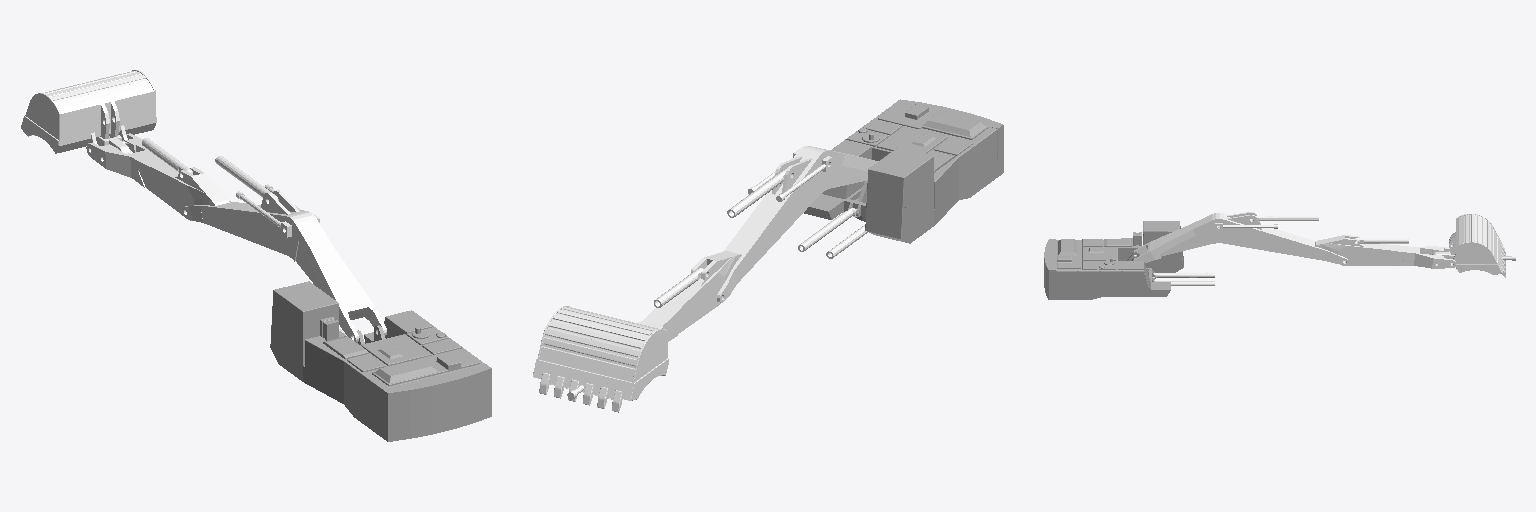
URDF robot description (excavatorplus):
<?xml version="1.0" encoding="utf-8"?>
<!-- This URDF was automatically created by SolidWorks to URDF Exporter! Originally created by [author] ([email redacted]) 
     Commit Version: 1.5.1-0-g916b5db  Build Version: 1.5.7152.31018
     For more information, please see http://wiki.ros.org/sw_urdf_exporter -->
<robot
  name="excavatorplus">
  <link
    name="base_link">
    <inertial>
      <origin
        xyz="-0.037276 -0.11211 -1.3696"
        rpy="0 0 0" />
      <mass
        value="1584.9" />
      <inertia
        ixx="2256.8"
        ixy="-0.00030194"
        ixz="0.00039682"
        iyy="1846.1"
        iyz="-4.069"
        izz="3789.3" />
    </inertial>
    <visual>
      <origin
        xyz="0 0 0"
        rpy="0 0 0" />
      <geometry>
        <mesh
          filename="package://meshes/base_link.STL" />
      </geometry>
      <material
        name="">
        <color
          rgba="0.75294 0.75294 0.75294 1" />
      </material>
    </visual>
    <collision>
      <origin
        xyz="0 0 0"
        rpy="0 0 0" />
      <geometry>
        <mesh
          filename="package://meshes/base_link.STL" />
      </geometry>
    </collision>
  </link>
  <link
    name="1huizhuantai">
    <inertial>
      <origin
        xyz="-0.033183 -0.98161 -0.29422"
        rpy="0 0 0" />
      <mass
        value="4155.4" />
      <inertia
        ixx="3529.1"
        ixy="203.56"
        ixz="1.8362"
        iyy="1890.9"
        iyz="99.215"
        izz="4823.8" />
    </inertial>
    <visual>
      <origin
        xyz="0 0 0"
        rpy="0 0 0" />
      <geometry>
        <mesh
          filename="package://meshes/1huizhuantai.STL" />
      </geometry>
      <material
        name="">
        <color
          rgba="0.75294 0.75294 0.75294 1" />
      </material>
    </visual>
    <collision>
      <origin
        xyz="0 0 0"
        rpy="0 0 0" />
      <geometry>
        <mesh
          filename="package://meshes/1huizhuantai.STL" />
      </geometry>
    </collision>
  </link>
  <joint
    name="joint1"
    type="continuous">
    <origin
      xyz="-0.037276 -0.092793 0"
      rpy="0 0 0" />
    <parent
      link="base_link" />
    <child
      link="1huizhuantai" />
    <axis
      xyz="0 0 -1" />
    <limit
      lower="-3.14"
      upper="3.14"
      effort="100"
      velocity="1" />
  </joint>
  <link
    name="2dongbi">
    <inertial>
      <origin
        xyz="-5.4753E-15 2.7656 0.58457"
        rpy="0 0 0" />
      <mass
        value="1139.2" />
      <inertia
        ixx="2254.3"
        ixy="-1.5608E-12"
        ixz="1.039E-12"
        iyy="117.73"
        iyz="110.05"
        izz="2173.1" />
    </inertial>
    <visual>
      <origin
        xyz="0 0 0"
        rpy="0 0 0" />
      <geometry>
        <mesh
          filename="package://meshes/2dongbi.STL" />
      </geometry>
      <material
        name="">
        <color
          rgba="1 1 1 1" />
      </material>
    </visual>
    <collision>
      <origin
        xyz="0 0 0"
        rpy="0 0 0" />
      <geometry>
        <mesh
          filename="package://meshes/2dongbi.STL" />
      </geometry>
    </collision>
  </link>
  <joint
    name="joint2"
    type="revolute">
    <origin
      xyz="0 0.1 0"
      rpy="0 0 0" />
    <parent
      link="1huizhuantai" />
    <child
      link="2dongbi" />
    <axis
      xyz="1 0 0" />
    <limit
      lower="-3.14"
      upper="3.14"
      effort="100"
      velocity="1" />
  </joint>
  <link
    name="3dougan">
    <inertial>
      <origin
        xyz="-6.546E-13 0.8525 0.13673"
        rpy="0 0 0" />
      <mass
        value="588.48" />
      <inertia
        ixx="532.28"
        ixy="1.0515E-11"
        ixz="-1.0057E-12"
        iyy="30.031"
        iyz="47.289"
        izz="525.77" />
    </inertial>
    <visual>
      <origin
        xyz="0 0 0"
        rpy="0 0 0" />
      <geometry>
        <mesh
          filename="package://meshes/3dougan.STL" />
      </geometry>
      <material
        name="">
        <color
          rgba="1 1 1 1" />
      </material>
    </visual>
    <collision>
      <origin
        xyz="0 0 0"
        rpy="0 0 0" />
      <geometry>
        <mesh
          filename="package://meshes/3dougan.STL" />
      </geometry>
    </collision>
  </link>
  <joint
    name="joint3"
    type="revolute">
    <origin
      xyz="0 5.7 0"
      rpy="0 0 0" />
    <parent
      link="2dongbi" />
    <child
      link="3dougan" />
    <axis
      xyz="1 0 0" />
    <limit
      lower="-3.14"
      upper="3.14"
      effort="100"
      velocity="1" />
  </joint>
  <link
    name="4chandou">
    <inertial>
      <origin
        xyz="0.63243 0.41031 6.167E-07"
        rpy="0 0 0" />
      <mass
        value="285.1" />
      <inertia
        ixx="135.44"
        ixy="12.871"
        ixz="0.0021992"
        iyy="173.33"
        iyz="-0.0023358"
        izz="90.525" />
    </inertial>
    <visual>
      <origin
        xyz="0 0 0"
        rpy="0 0 0" />
      <geometry>
        <mesh
          filename="package://meshes/4chandou.STL" />
      </geometry>
      <material
        name="">
        <color
          rgba="1 1 1 1" />
      </material>
    </visual>
    <collision>
      <origin
        xyz="0 0 0"
        rpy="0 0 0" />
      <geometry>
        <mesh
          filename="package://meshes/4chandou.STL" />
      </geometry>
    </collision>
  </link>
  <joint
    name="joint4"
    type="revolute">
    <origin
      xyz="0 2.925 0"
      rpy="1.5708 0 1.5708" />
    <parent
      link="3dougan" />
    <child
      link="4chandou" />
    <axis
      xyz="0 0 1" />
    <limit
      lower="-3.14"
      upper="3.14"
      effort="100"
      velocity="1" />
  </joint>
  <link
    name="10dghuosai">
    <inertial>
      <origin
        xyz="1.4433E-14 -0.80097 6.4985E-13"
        rpy="0 0 0" />
      <mass
        value="19.392" />
      <inertia
        ixx="8.1302"
        ixy="1.454E-13"
        ixz="-3.4084E-16"
        iyy="0.045791"
        iyz="5.0663E-14"
        izz="8.1409" />
    </inertial>
    <visual>
      <origin
        xyz="0 0 0"
        rpy="0 0 0" />
      <geometry>
        <mesh
          filename="package://meshes/10dghuosai.STL" />
      </geometry>
      <material
        name="">
        <color
          rgba="1 1 1 1" />
      </material>
    </visual>
    <collision>
      <origin
        xyz="0 0 0"
        rpy="0 0 0" />
      <geometry>
        <mesh
          filename="package://meshes/10dghuosai.STL" />
      </geometry>
    </collision>
  </link>
  <joint
    name="joint10"
    type="revolute">
    <origin
      xyz="0 -0.81541 0.24"
      rpy="1.5708 1.5708 -1.5708" />
    <parent
      link="3dougan" />
    <child
      link="10dghuosai" />
    <axis
      xyz="0 0 -1" />
    <limit
      lower="-3.14"
      upper="3.14"
      effort="100"
      velocity="1" />
  </joint>
  <link
    name="11cdgan">
    <inertial>
      <origin
        xyz="-7.142E-08 0.54528 -1.1299E-08"
        rpy="0 0 0" />
      <mass
        value="9.5739" />
      <inertia
        ixx="2.0123"
        ixy="-2.9462E-07"
        ixz="-5.1743E-08"
        iyy="0.044044"
        iyz="3.6405E-08"
        izz="2.0155" />
    </inertial>
    <visual>
      <origin
        xyz="0 0 0"
        rpy="0 0 0" />
      <geometry>
        <mesh
          filename="package://meshes/11cdgan.STL" />
      </geometry>
      <material
        name="">
        <color
          rgba="1 1 1 1" />
      </material>
    </visual>
    <collision>
      <origin
        xyz="0 0 0"
        rpy="0 0 0" />
      <geometry>
        <mesh
          filename="package://meshes/11cdgan.STL" />
      </geometry>
    </collision>
  </link>
  <joint
    name="joint11"
    type="revolute">
    <origin
      xyz="0 0.32228 0.52931"
      rpy="1.5708 -1.5708 -1.5708" />
    <parent
      link="3dougan" />
    <child
      link="11cdgan" />
    <axis
      xyz="0 0 1" />
    <limit
      lower="-3.14"
      upper="3.14"
      effort="100"
      velocity="1" />
  </joint>
  <link
    name="12liangan2">
    <inertial>
      <origin
        xyz="-0.3092 1.1351E-09 -1.7838E-07"
        rpy="0 0 0" />
      <mass
        value="40.465" />
      <inertia
        ixx="0.67185"
        ixy="5.4231E-09"
        ixz="-1.2804E-07"
        iyy="2.673"
        iyz="-3.9415E-07"
        izz="2.5982" />
    </inertial>
    <visual>
      <origin
        xyz="0 0 0"
        rpy="0 0 0" />
      <geometry>
        <mesh
          filename="package://meshes/12liangan2.STL" />
      </geometry>
      <material
        name="">
        <color
          rgba="1 1 1 1" />
      </material>
    </visual>
    <collision>
      <origin
        xyz="0 0 0"
        rpy="0 0 0" />
      <geometry>
        <mesh
          filename="package://meshes/12liangan2.STL" />
      </geometry>
    </collision>
  </link>
  <joint
    name="joint12"
    type="revolute">
    <origin
      xyz="0 2.515 0"
      rpy="-1.5708 0 -1.5708" />
    <parent
      link="3dougan" />
    <child
      link="12liangan2" />
    <axis
      xyz="0 0 1" />
    <limit
      lower="-3.14"
      upper="3.14"
      effort="100"
      velocity="1" />
  </joint>
  <link
    name="13cdhuosai">
    <inertial>
      <origin
        xyz="2.6734E-13 -0.63367 7.5837E-13"
        rpy="0 0 0" />
      <mass
        value="15.607" />
      <inertia
        ixx="4.1805"
        ixy="3.1987E-14"
        ixz="1.8646E-17"
        iyy="0.036574"
        iyz="8.2347E-14"
        izz="4.1913" />
    </inertial>
    <visual>
      <origin
        xyz="0 0 0"
        rpy="0 0 0" />
      <geometry>
        <mesh
          filename="package://meshes/13cdhuosai.STL" />
      </geometry>
      <material
        name="">
        <color
          rgba="1 1 1 1" />
      </material>
    </visual>
    <collision>
      <origin
        xyz="0 0 0"
        rpy="0 0 0" />
      <geometry>
        <mesh
          filename="package://meshes/13cdhuosai.STL" />
      </geometry>
    </collision>
  </link>
  <joint
    name="joint13"
    type="revolute">
    <origin
      xyz="-0.64 0 0"
      rpy="0 0 -1.5708" />
    <parent
      link="12liangan2" />
    <child
      link="13cdhuosai" />
    <axis
      xyz="0 0 1" />
    <limit
      lower="-3.14"
      upper="3.14"
      effort="100"
      velocity="1" />
  </joint>
  <link
    name="14liangan1">
    <inertial>
      <origin
        xyz="-0.33435 -2.337E-08 1.7266E-08"
        rpy="0 0 0" />
      <mass
        value="19.143" />
      <inertia
        ixx="0.15562"
        ixy="-1.0211E-07"
        ixz="-1.6171E-07"
        iyy="0.91282"
        iyz="8.579E-09"
        izz="0.88411" />
    </inertial>
    <visual>
      <origin
        xyz="0 0 0"
        rpy="0 0 0" />
      <geometry>
        <mesh
          filename="package://meshes/14liangan1.STL" />
      </geometry>
      <material
        name="">
        <color
          rgba="1 1 1 1" />
      </material>
    </visual>
    <collision>
      <origin
        xyz="0 0 0"
        rpy="0 0 0" />
      <geometry>
        <mesh
          filename="package://meshes/14liangan1.STL" />
      </geometry>
    </collision>
  </link>
  <joint
    name="joint14"
    type="revolute">
    <origin
      xyz="-0.64 0 0"
      rpy="-1.5708 0 3.1416" />
    <parent
      link="12liangan2" />
    <child
      link="14liangan1" />
    <axis
      xyz="0 -1 0" />
    <limit
      lower="3.14"
      upper="3.14"
      effort="100"
      velocity="1" />
  </joint>
  <link
    name="7dbrhuosai">
    <inertial>
      <origin
        xyz="3.5527E-15 -0.66744 0.275"
        rpy="0 0 0" />
      <mass
        value="11.061" />
      <inertia
        ixx="3.4611"
        ixy="2.0499E-14"
        ixz="1.4204E-16"
        iyy="0.021177"
        iyz="-1.6584E-14"
        izz="3.4707" />
    </inertial>
    <visual>
      <origin
        xyz="0 0 0"
        rpy="0 0 0" />
      <geometry>
        <mesh
          filename="package://meshes/7dbrhuosai.STL" />
      </geometry>
      <material
        name="">
        <color
          rgba="1 1 1 1" />
      </material>
    </visual>
    <collision>
      <origin
        xyz="0 0 0"
        rpy="0 0 0" />
      <geometry>
        <mesh
          filename="package://meshes/7dbrhuosai.STL" />
      </geometry>
    </collision>
  </link>
  <joint
    name="joint7"
    type="revolute">
    <origin
      xyz="0 2.2642 1.0787"
      rpy="1.5708 -1.5708 1.5708" />
    <parent
      link="2dongbi" />
    <child
      link="7dbrhuosai" />
    <axis
      xyz="0 0 1" />
    <limit
      lower="-3.14"
      upper="3.14"
      effort="100"
      velocity="1" />
  </joint>
  <link
    name="8dblhuosai">
    <inertial>
      <origin
        xyz="3.33066907387547E-15 -0.667440027957437 -0.0433263736101925"
        rpy="0 0 0" />
      <mass
        value="11.0612825522758" />
      <inertia
        ixx="3.46110303337613"
        ixy="1.49958170880815E-14"
        ixz="-1.18968090472971E-16"
        iyy="0.0211765702235837"
        iyz="-7.18658460716524E-15"
        izz="3.47070837629348" />
    </inertial>
    <visual>
      <origin
        xyz="0 0 0"
        rpy="0 0 0" />
      <geometry>
        <mesh
          filename="package://meshes/8dblhuosai.STL" />
      </geometry>
      <material
        name="">
        <color
          rgba="1 1 1 1" />
      </material>
    </visual>
    <collision>
      <origin
        xyz="0 0 0"
        rpy="0 0 0" />
      <geometry>
        <mesh
          filename="package://meshes/8dblhuosai.STL" />
      </geometry>
    </collision>
  </link>
  <joint
    name="joint8"
    type="revolute">
    <origin
      xyz="-0.23167 2.2642 1.0787"
      rpy="1.5708 -1.5708 1.5708" />
    <parent
      link="2dongbi" />
    <child
      link="8dblhuosai" />
    <axis
      xyz="0 0 1" />
    <limit
      lower="-3.14"
      upper="3.14"
      effort="100"
      velocity="1" />
  </joint>
  <link
    name="9dggan">
    <inertial>
      <origin
        xyz="-3.89869505568186E-08 0.713594227840676 6.38155546889115E-09"
        rpy="0 0 0" />
      <mass
        value="11.6969662337488" />
      <inertia
        ixx="4.00282392932801"
        ixy="-2.29090552319143E-07"
        ixz="-5.54909954177894E-08"
        iyy="0.05520244376999"
        iyz="-9.16910187012643E-09"
        izz="4.00610574983168" />
    </inertial>
    <visual>
      <origin
        xyz="0 0 0"
        rpy="0 0 0" />
      <geometry>
        <mesh
          filename="package://meshes/9dggan.STL" />
      </geometry>
      <material
        name="">
        <color
          rgba="1 1 1 1" />
      </material>
    </visual>
    <collision>
      <origin
        xyz="0 0 0"
        rpy="0 0 0" />
      <geometry>
        <mesh
          filename="package://meshes/9dggan.STL" />
      </geometry>
    </collision>
  </link>
  <joint
    name="joint9"
    type="revolute">
    <origin
      xyz="0 3.1606 1.1967"
      rpy="-1.5708 -1.5708 1.5708" />
    <parent
      link="2dongbi" />
    <child
      link="9dggan" />
    <axis
      xyz="0 0 -1" />
    <limit
      lower="-3.14"
      upper="3.14"
      effort="100"
      velocity="1" />
  </joint>
  <link
    name="5dbrgan">
    <inertial>
      <origin
        xyz="3.73045285773088E-08 0.621467989771039 -0.0747185691696682"
        rpy="0 0 0" />
      <mass
        value="9.87425796110013" />
      <inertia
        ixx="2.80490501063707"
        ixy="7.00026221062827E-07"
        ixz="1.42905644124295E-06"
        iyy="0.0378695138564403"
        iyz="0.0608998479936682"
        izz="2.80218058294718" />
    </inertial>
    <visual>
      <origin
        xyz="0 0 0"
        rpy="0 0 0" />
      <geometry>
        <mesh
          filename="package://meshes/5dbrgan.STL" />
      </geometry>
      <material
        name="">
        <color
          rgba="1 1 1 1" />
      </material>
    </visual>
    <collision>
      <origin
        xyz="0 0 0"
        rpy="0 0 0" />
      <geometry>
        <mesh
          filename="package://meshes/5dbrgan.STL" />
      </geometry>
    </collision>
  </link>
  <joint
    name="joint5"
    type="revolute">
    <origin
      xyz="0.19001 0.597 -0.6445"
      rpy="1.5708 -1.5708 -1.5708" />
    <parent
      link="1huizhuantai" />
    <child
      link="5dbrgan" />
    <axis
      xyz="0 0 -1" />
    <limit
      lower="-3.14"
      upper="3.14"
      effort="100"
      velocity="1" />
  </joint>
  <link
    name="6dblgan">
    <inertial>
      <origin
        xyz="-6.10060434391713E-08 0.62146755499709 -0.264729316181055"
        rpy="0 0 0" />
      <mass
        value="9.87424457753426" />
      <inertia
        ixx="2.80490291461805"
        ixy="9.11579252969516E-07"
        ixz="1.47924217996168E-06"
        iyy="0.0378694913575865"
        iyz="0.0609003384736998"
        izz="2.80217801483438" />
    </inertial>
    <visual>
      <origin
        xyz="0 0 0"
        rpy="0 0 0" />
      <geometry>
        <mesh
          filename="package://meshes/6dblgan.STL" />
      </geometry>
      <material
        name="">
        <color
          rgba="1 1 1 1" />
      </material>
    </visual>
    <collision>
      <origin
        xyz="0 0 0"
        rpy="0 0 0" />
      <geometry>
        <mesh
          filename="package://meshes/6dblgan.STL" />
      </geometry>
    </collision>
  </link>
  <joint
    name="joint6"
    type="revolute">
    <origin
      xyz="0 0.597 -0.6445"
      rpy="1.5708 1.5708 1.5708" />
    <parent
      link="1huizhuantai" />
    <child
      link="6dblgan" />
    <axis
      xyz="0 0 1" />
    <limit
      lower="-3.14"
      upper="3.14"
      effort="100"
      velocity="1" />
  </joint>
</robot>

--- What the picture shows (computed from the rendered views, not written in the file) ---
The picture shows the robot from 3 angles, left to right: view 1: azimuth 30°, elevation 25°; view 2: azimuth 150°, elevation 25°; view 3: azimuth 270°, elevation 25°; orthographic projection.
Robot: excavatorplus — 15 links, 14 joints (13 revolute, 1 continuous); root link base_link; default pose: joints at zero except 1 at the middle of their limits (joint14 = 3.14).
Visible links, largest first — view 1: 1huizhuantai, 2dongbi, 4chandou, 3dougan, 9dggan; view 2: 1huizhuantai, 4chandou, 2dongbi, 3dougan, 9dggan, 5dbrgan, 11cdgan; view 3: 1huizhuantai, 2dongbi, 3dougan, 4chandou.
Boxes of the visible links, x1,y1,x2,y2 form: 1huizhuantai: (270,281,491,441); 2dongbi: (182,190,386,342); 4chandou: (21,70,156,153); 3dougan: (86,133,229,220); 9dggan: (215,156,278,200); 1huizhuantai: (804,99,1003,243); 4chandou: (533,306,668,412); 2dongbi: (717,146,878,302); 3dougan: (638,251,741,341); 9dggan: (727,169,786,217); 5dbrgan: (798,208,856,251); 11cdgan: (654,268,703,307); 1huizhuantai: (1044,221,1183,299); 2dongbi: (1133,212,1347,264); 3dougan: (1315,235,1455,268); 4chandou: (1449,214,1505,277).
Bounding box of the posed robot: 2.16 × 12.85 × 2.19 m (x, y, z).
Meshes: 15 distinct files referenced, 14 mesh visuals loaded (14 binary STL); not drawn: 1 (reference not matched to a file when rendering).
